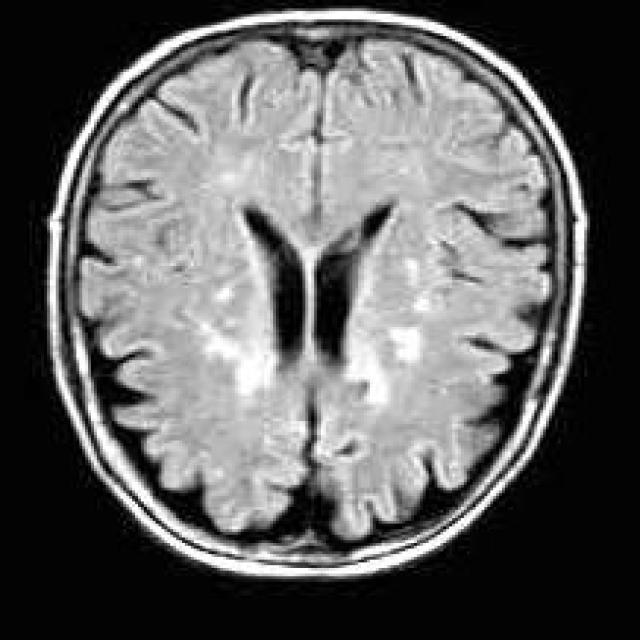notumor: (47, 8, 584, 579)
